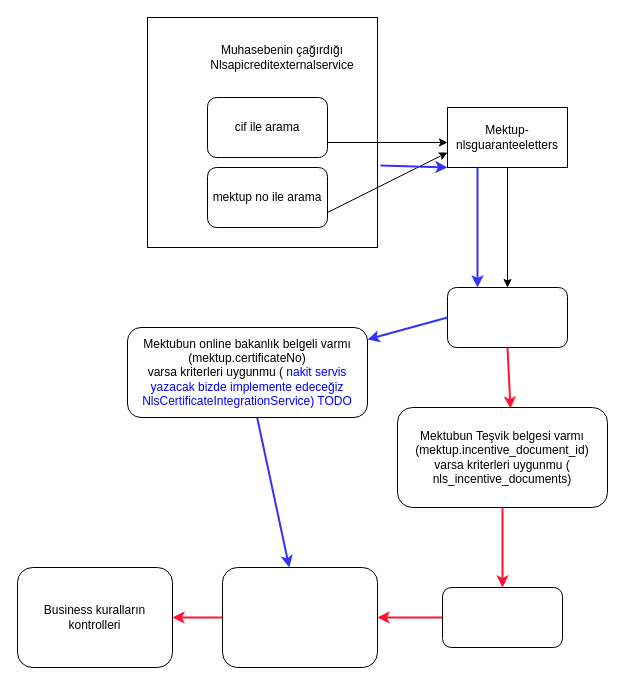
Some shapes in this 625 by 685 pixel diagram are drawn without their labels. Here are the shapes that lost their labels. From the top down, the box of each, then its label:
(446, 286, 568, 348): vergiden muafmı bu mektup komisyonu
(222, 566, 378, 668): nlscertificateDTO- map edilecek -nlsincentiveDocumentDTO
(442, 586, 562, 648): nls_incentive_documents
